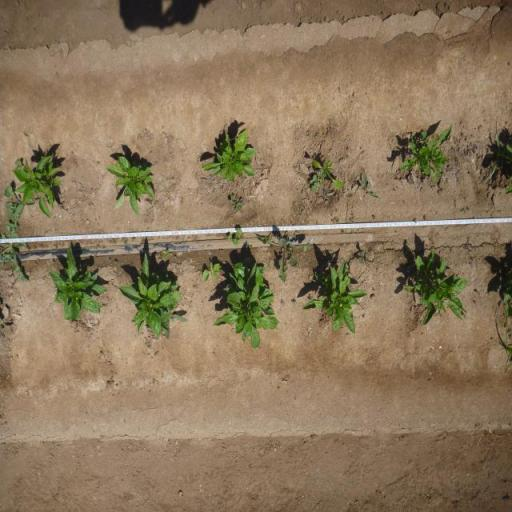plant: (403, 248, 469, 328), (222, 260, 278, 350), (117, 260, 176, 333), (54, 244, 108, 322), (310, 261, 366, 335), (12, 150, 63, 220), (398, 121, 454, 184), (200, 124, 258, 183), (106, 154, 156, 218), (311, 156, 346, 190)
weed: (260, 230, 312, 282), (0, 207, 30, 282), (478, 117, 508, 187), (3, 184, 36, 222), (360, 172, 381, 199), (202, 260, 223, 284), (228, 192, 246, 216), (226, 228, 244, 246), (356, 248, 372, 266), (308, 174, 320, 195), (163, 249, 173, 262), (13, 159, 23, 170), (155, 250, 165, 260), (349, 210, 355, 224), (330, 216, 340, 224), (404, 240, 410, 253), (248, 244, 254, 254), (110, 238, 118, 245), (422, 213, 428, 221), (34, 258, 41, 264), (218, 249, 225, 255), (280, 300, 286, 307), (412, 216, 417, 224), (32, 244, 38, 250), (292, 300, 298, 306), (54, 243, 59, 250), (123, 240, 128, 247), (466, 205, 471, 212), (476, 290, 481, 296), (94, 253, 98, 260), (462, 208, 466, 215), (96, 242, 100, 248), (114, 260, 118, 266), (372, 216, 376, 222), (121, 237, 126, 241), (132, 237, 136, 242), (351, 230, 356, 234), (51, 260, 54, 266), (302, 184, 306, 188), (341, 230, 345, 234), (97, 161, 100, 165)
